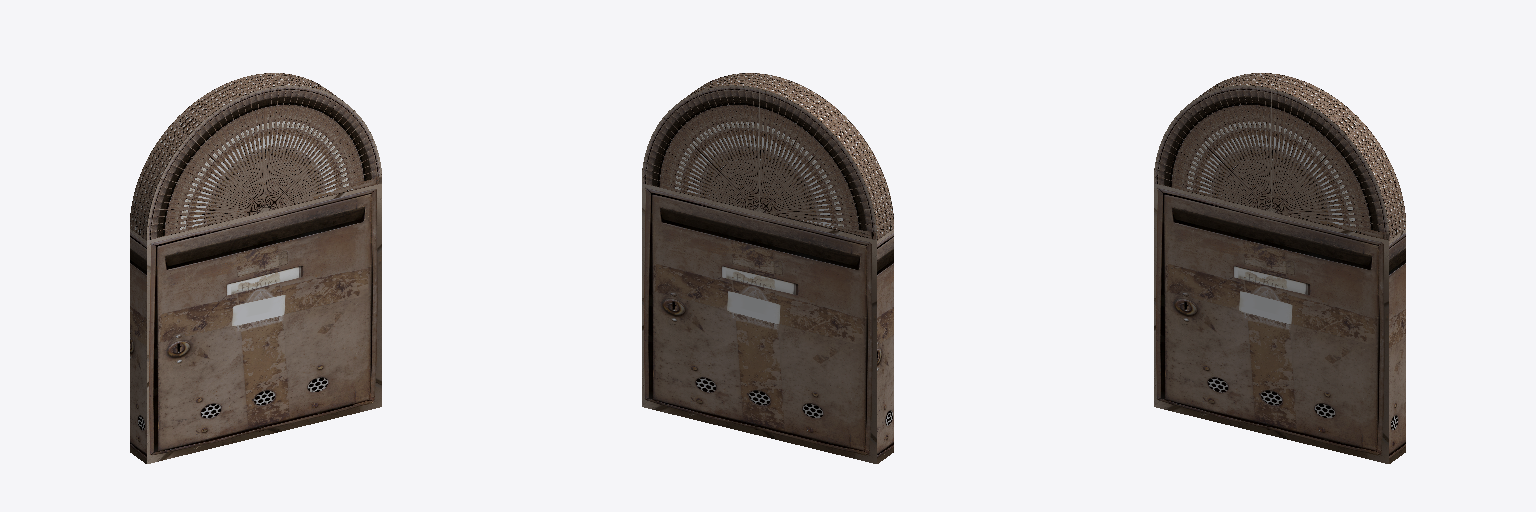
The picture shows the model from 3 angles: view 1: azimuth 30°, elevation 25°; view 2: azimuth 150°, elevation 25°; view 3: azimuth 330°, elevation 25°; orthographic projection.
Visible parts, largest first — view 1: Box007, Cylinder001; view 2: Box007, Cylinder001; view 3: Box007, Cylinder001.
Part boxes in pixels (x1,y1,x2,y2): Box007: (130, 184, 381, 463); Cylinder001: (130, 73, 381, 240); Box007: (642, 184, 893, 463); Cylinder001: (642, 73, 893, 240); Box007: (1154, 184, 1405, 463); Cylinder001: (1154, 73, 1405, 240).
Size of the model in its own units: 16 by 22.5 by 2.
1 materials, 1 textured.